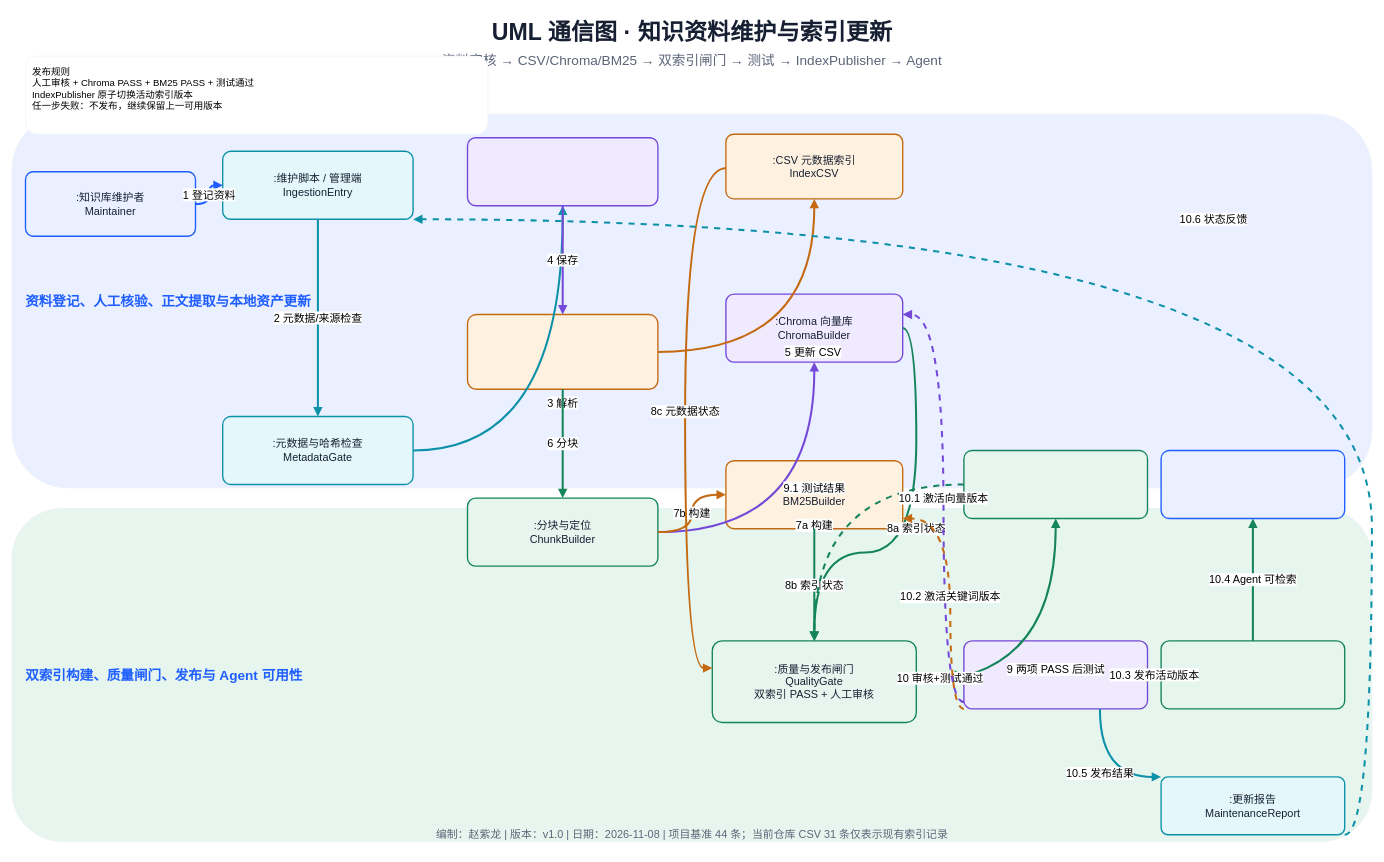
The diagram is 1384 pixels wide and 862 high, and some of its shapes have lost their labels. The shapes that lost their labels are listed below. From the top down, each one's centre as x and y in pixels, then its label:
point (562, 171): :解析与 OCR ParserOCR
point (562, 351): :本地知识资产 LocalKnowledge
point (1055, 484): :离线评测 PoCTestSuite
point (1252, 484): :Agent Orchestrator
point (1055, 674): :索引发布器 IndexPublisher
point (1252, 674): :Agent 查询入口 AgentQueryGateway
